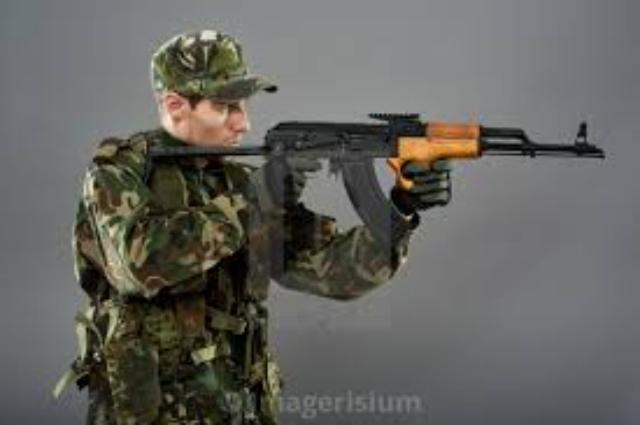other: (69, 36, 298, 415)
